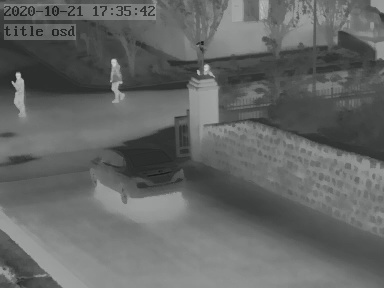person: (12, 71, 28, 118), (109, 57, 125, 102)
vehicle: (88, 142, 183, 202)
